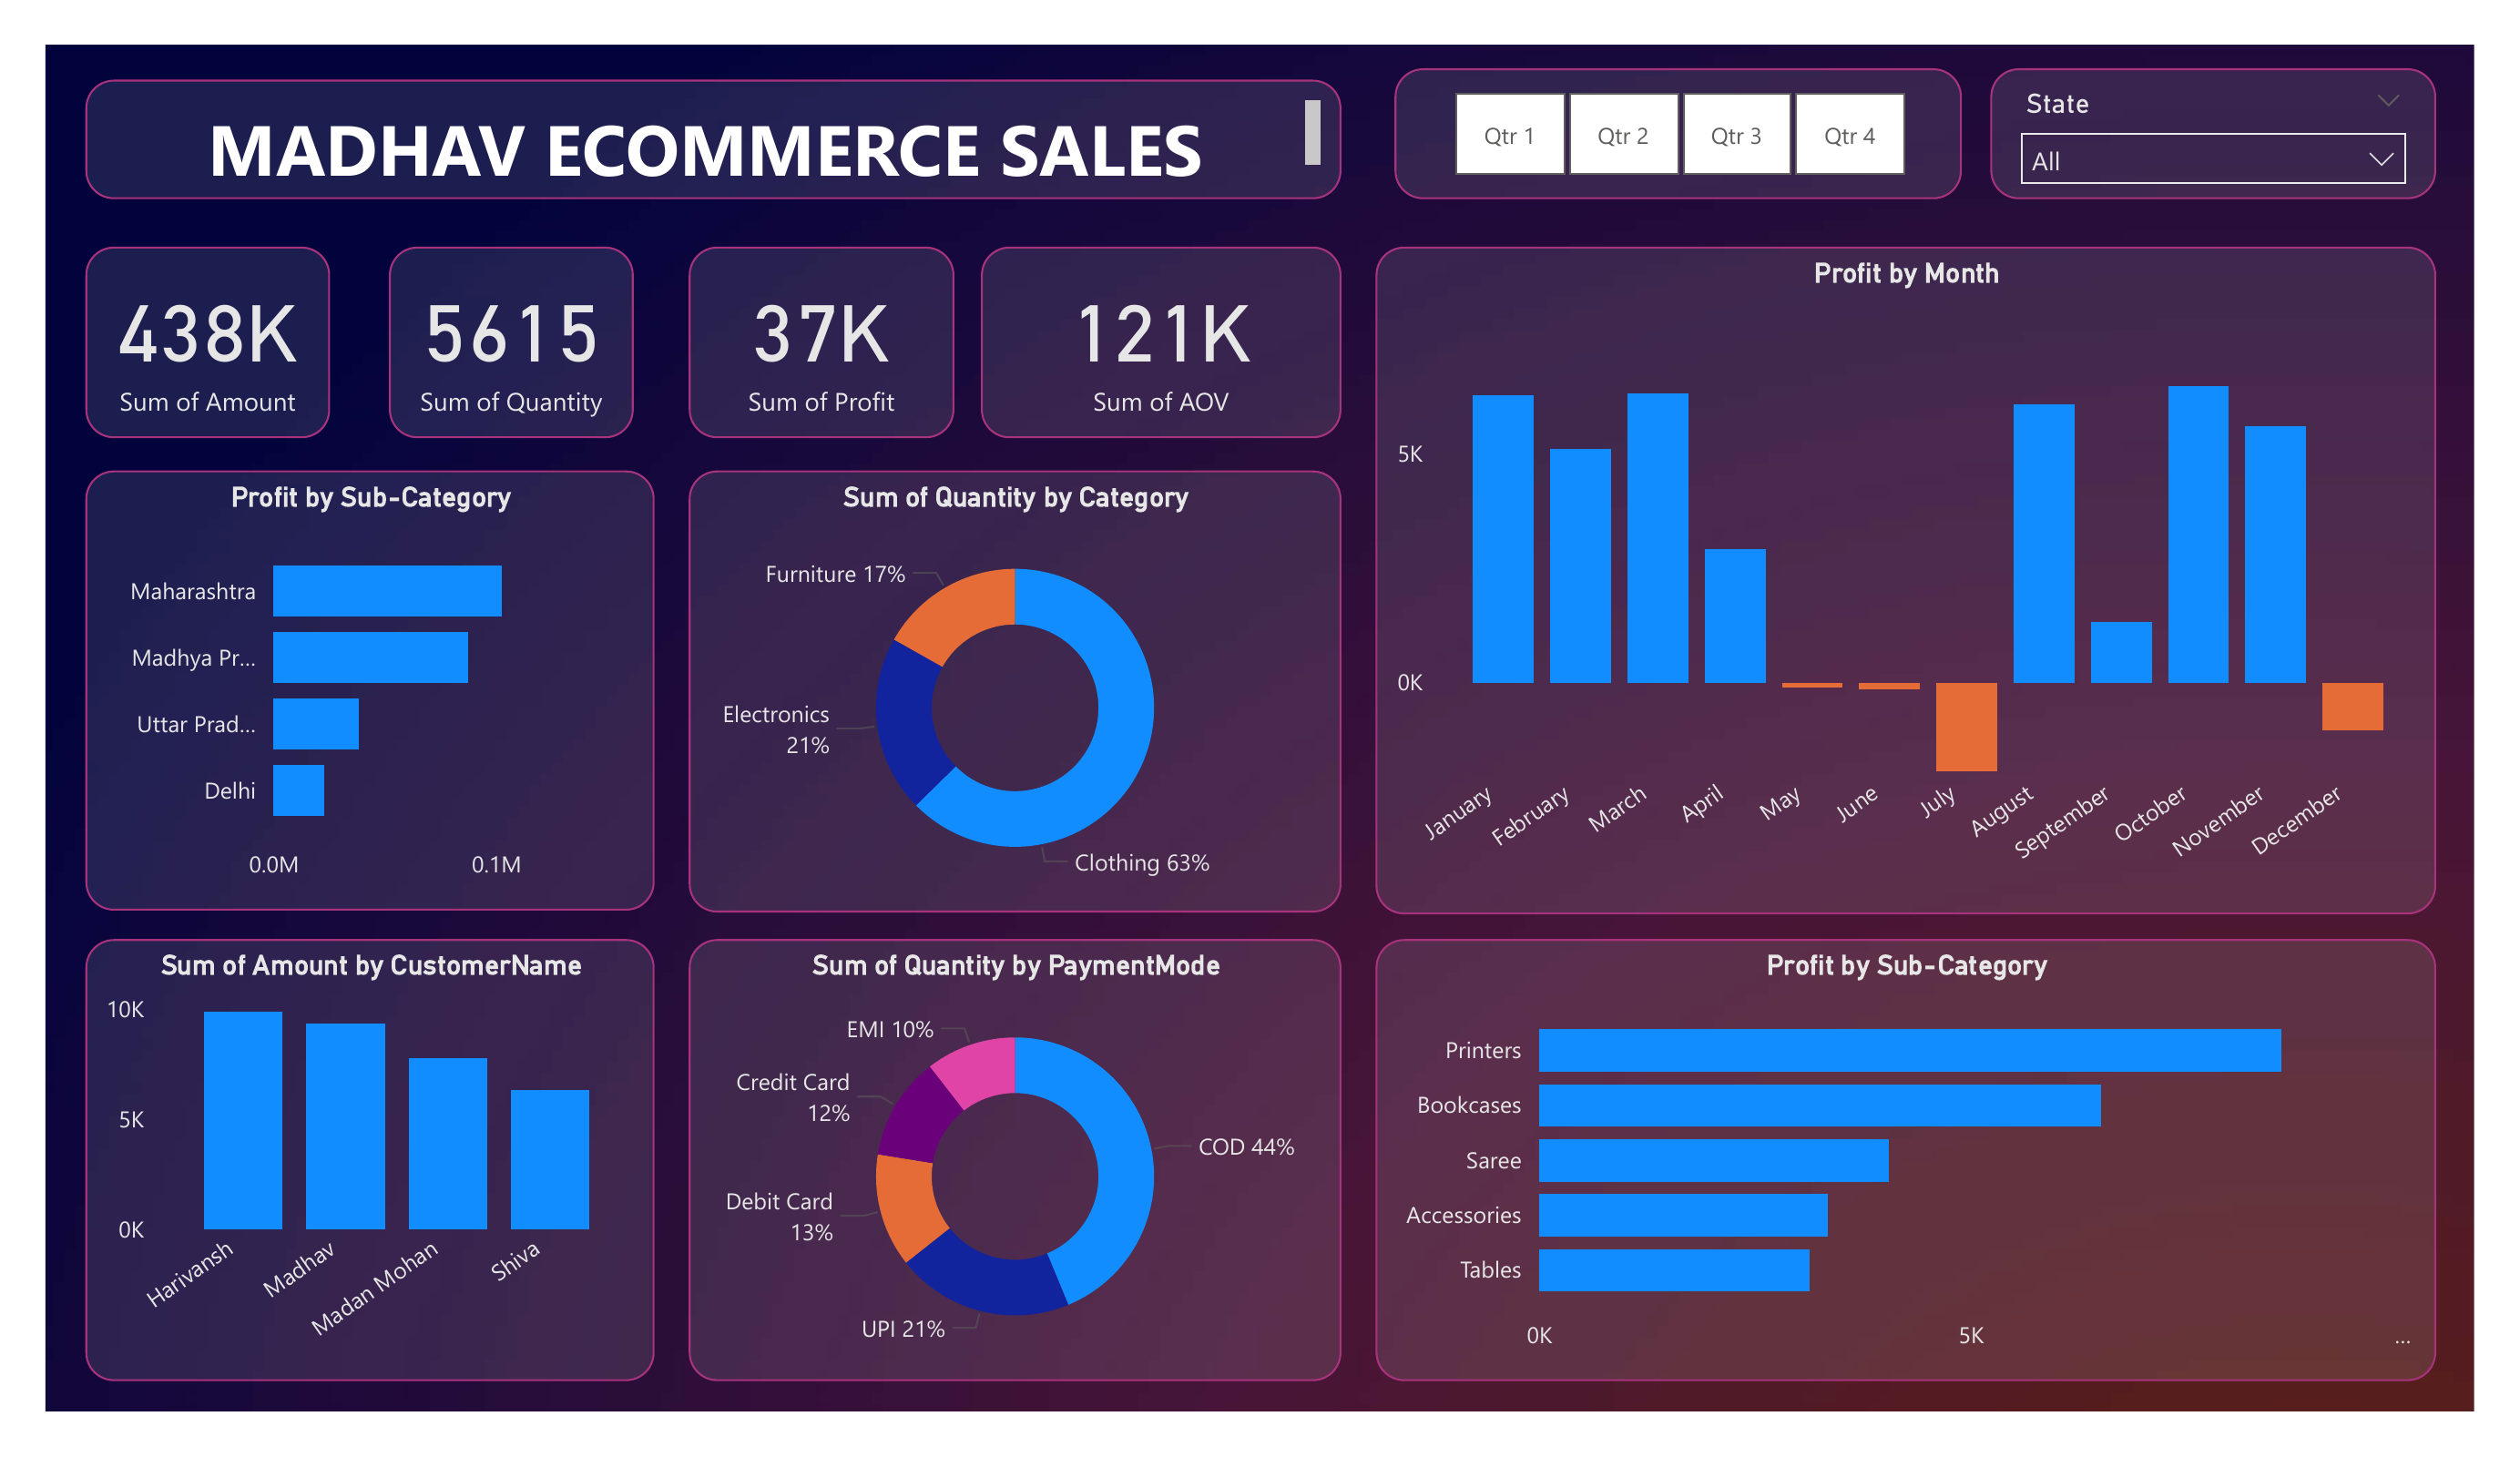

This screenshot's page, from the dashboard's own definition file:
{"tool":"powerbi","page":{"name":"Page 1","canvas":[1280,720],"ordinal":0},"visuals":[{"type":"textbox","box":[20.6,17.8,662.8,63.1],"z":0},{"type":"columnChart","title":"Profit by Month","fields":{"Y":["Details.Profit"],"Category":["Orders.Order Date.Variation.Date Hierarchy.Month"]},"box":[701.2,105.7,558.5,352.7],"z":1000},{"type":"barChart","title":" Profit by Sub-Category","fields":{"Category":["Details.Sub-Category"],"Y":["Details.Profit"]},"box":[701.2,470.7,558.5,233.3],"z":2000},{"type":"donutChart","fields":{"Y":["Details.Quantity"],"Category":["Details.PaymentMode"]},"box":[338.9,470.7,344.4,233.3],"z":3000},{"type":"donutChart","fields":{"Category":["Details.Category"],"Y":["Details.Quantity"]},"box":[339,224.4,343.8,232.8],"z":4000},{"type":"card","fields":{"Values":["Details.Amount"]},"box":[20.6,105.7,129,101.5],"z":5000},{"type":"card","fields":{"Values":["Details.Quantity"]},"box":[181.1,105.7,129,101.5],"z":6000},{"type":"card","fields":{"Values":["Details.Profit"]},"box":[338.9,105.7,140,101.5],"z":7000},{"type":"card","fields":{"Values":["Details.AOV"]},"box":[492.6,105.7,190.7,101.5],"z":8000},{"type":"barChart","title":" Profit by Sub-Category","fields":{"Category":["Orders.State"],"Y":["Details.Amount"]},"box":[20.6,223.7,300.5,231.9],"z":9000},{"type":"columnChart","fields":{"Category":["Orders.CustomerName"],"Y":["Details.Amount"]},"box":[20.6,470.7,300.5,233.3],"z":10000},{"type":"slicer","fields":{"Values":["Orders.Order Date.Variation.Date Hierarchy.Quarter"]},"box":[710.8,12.3,299.1,68.6],"z":11000},{"type":"slicer","fields":{"Values":["Orders.State"]},"box":[1025,12.3,234.6,68.6],"z":12000}]}

Visuals, with their boxes on the page's 1280x720 design canvas (x1, y1, x2, y2). These are canvas units, not pixel positions in the 2520x1457 screenshot, which may show the page scaled, cropped or inside an application window:
textbox: pyautogui.locateOnScreen(21, 18, 683, 81)
"Profit by Month" columnChart: pyautogui.locateOnScreen(701, 106, 1260, 458)
" Profit by Sub-Category" barChart: pyautogui.locateOnScreen(701, 471, 1260, 704)
donutChart - Details.Quantity x Details.PaymentMode: pyautogui.locateOnScreen(339, 471, 683, 704)
donutChart - Details.Category x Details.Quantity: pyautogui.locateOnScreen(339, 224, 683, 457)
card - Details.Amount: pyautogui.locateOnScreen(21, 106, 150, 207)
card - Details.Quantity: pyautogui.locateOnScreen(181, 106, 310, 207)
card - Details.Profit: pyautogui.locateOnScreen(339, 106, 479, 207)
card - Details.AOV: pyautogui.locateOnScreen(493, 106, 683, 207)
" Profit by Sub-Category" barChart: pyautogui.locateOnScreen(21, 224, 321, 456)
columnChart - Orders.CustomerName x Details.Amount: pyautogui.locateOnScreen(21, 471, 321, 704)
slicer - Orders.Order Date.Variation.Date Hierarchy.Quarter: pyautogui.locateOnScreen(711, 12, 1010, 81)
slicer - Orders.State: pyautogui.locateOnScreen(1025, 12, 1260, 81)
